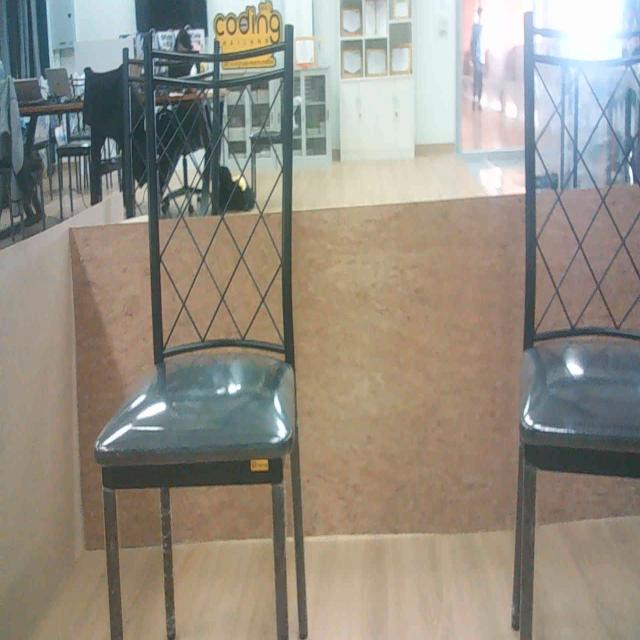emtpy: (112, 36, 308, 640), (510, 8, 640, 640)
